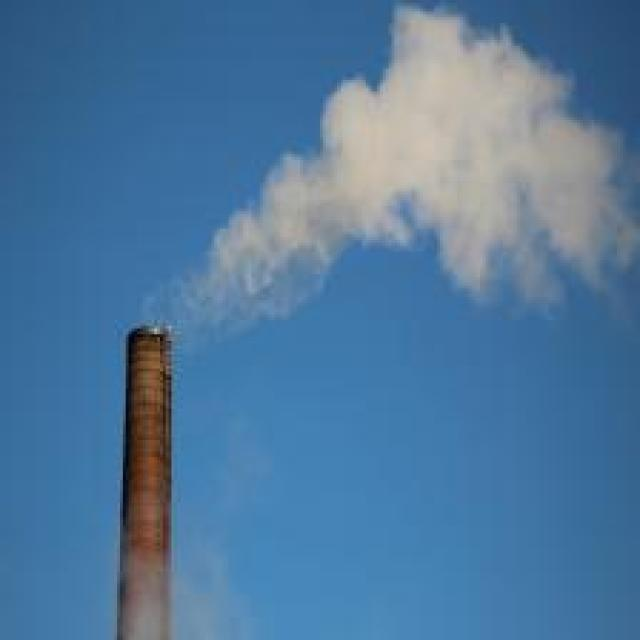Smoke: (162, 0, 640, 337)
